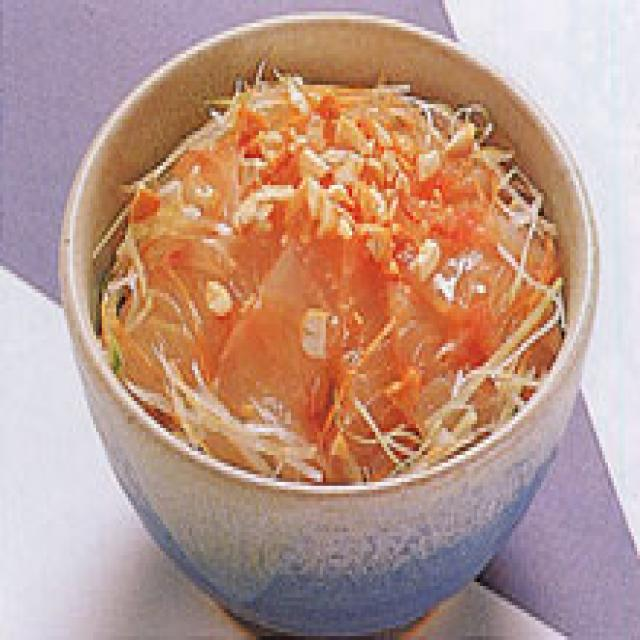刺身生食: (49, 0, 596, 632)
